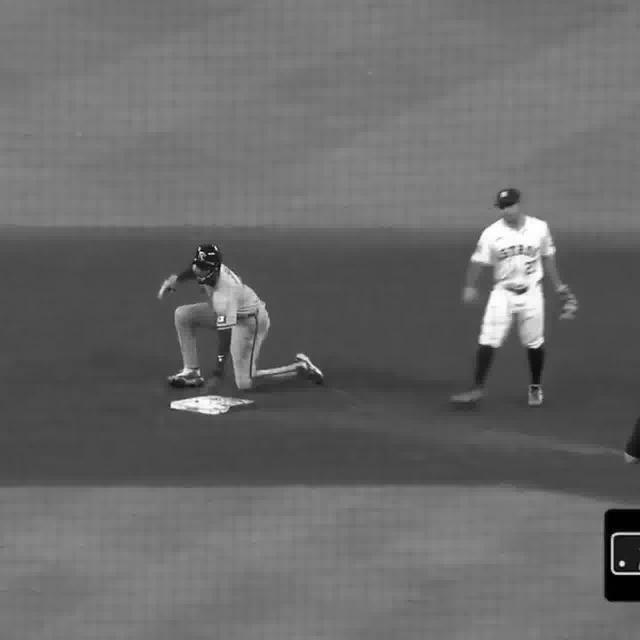base: (170, 392, 256, 417)
baseball_glove: (554, 283, 582, 321)
shoe: (296, 354, 326, 383), (168, 368, 204, 388), (452, 388, 484, 408), (530, 388, 545, 408)
